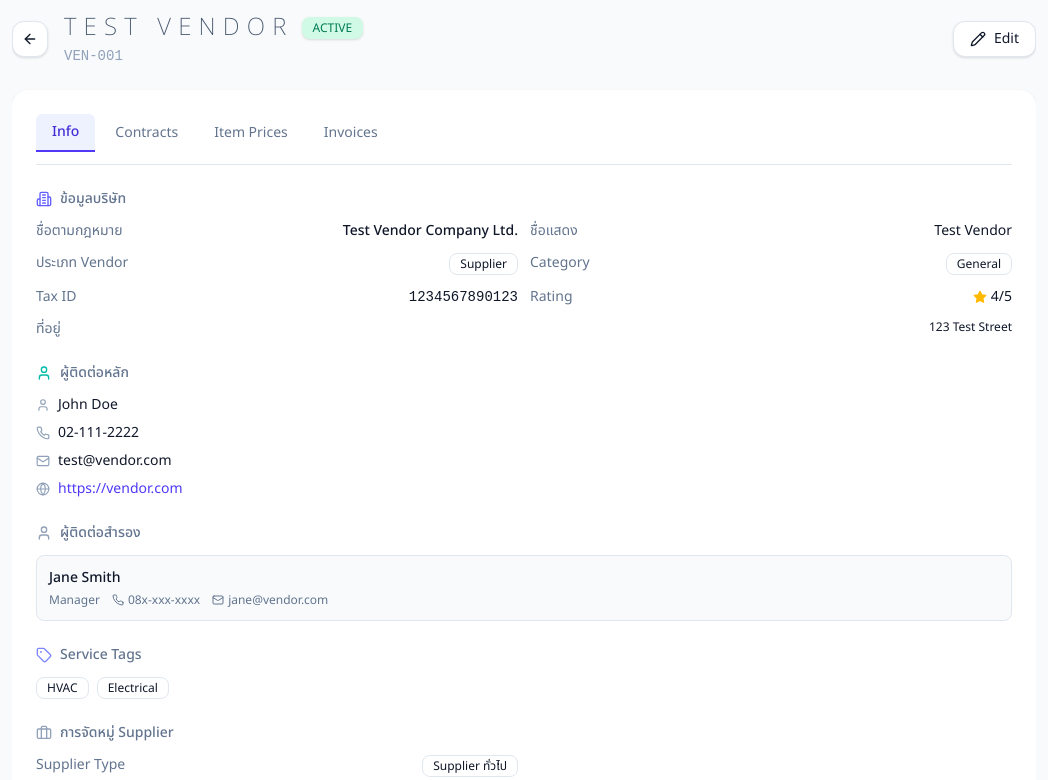
Test: VendorDetailPage › switches to Contracts tab
The image size is (1048, 780).
Click the button "Contracts". click: (147,133)
box: x1=99 y1=114 x2=194 y2=152
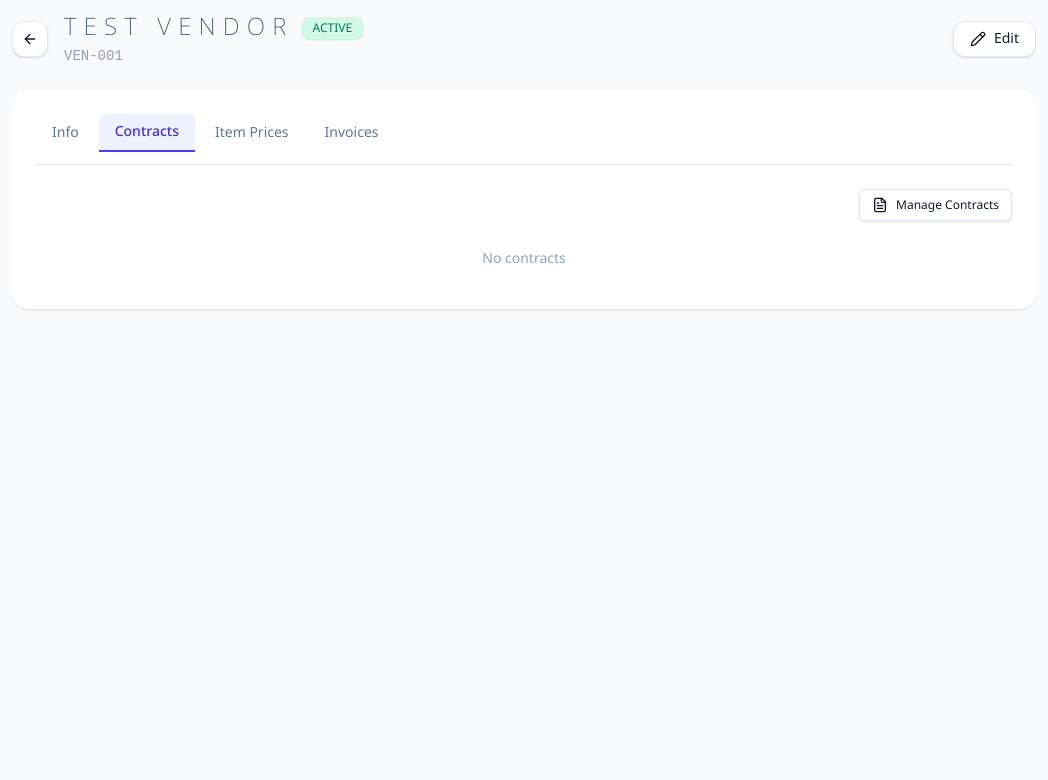
Expected: the text "No contracts" is shown, x1=482 y1=248 x2=566 y2=269
